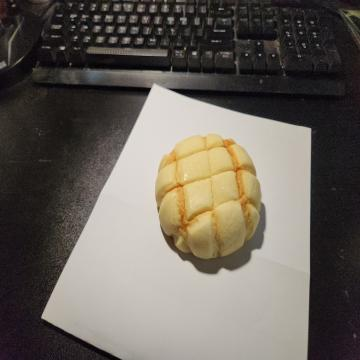melon_bread: (156, 136, 261, 259)
